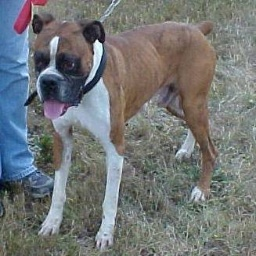dog: (26, 8, 222, 249)
